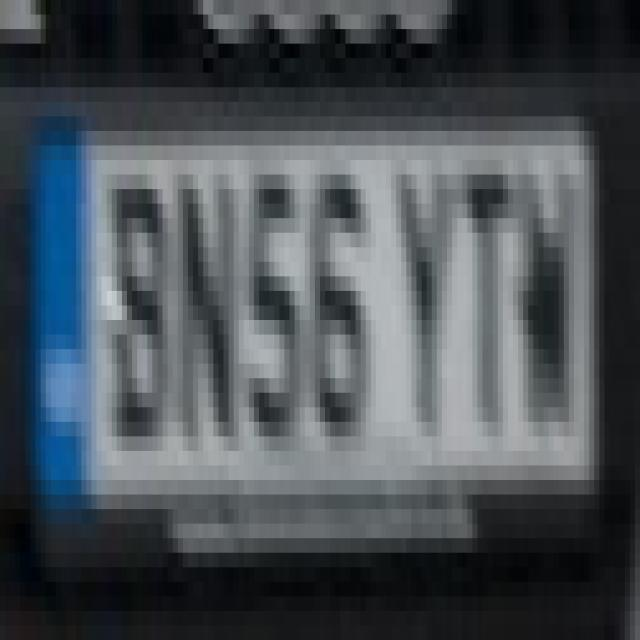licenseplate: (15, 67, 612, 564)
